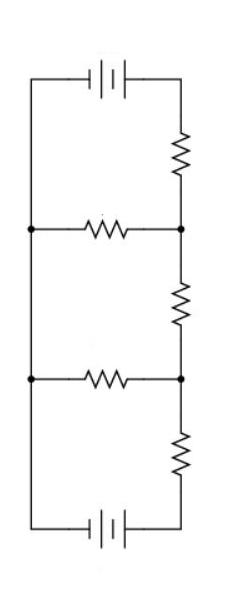resistor: (152, 412, 207, 506), (56, 346, 152, 398), (58, 210, 150, 250), (157, 103, 204, 179), (158, 257, 202, 336)
